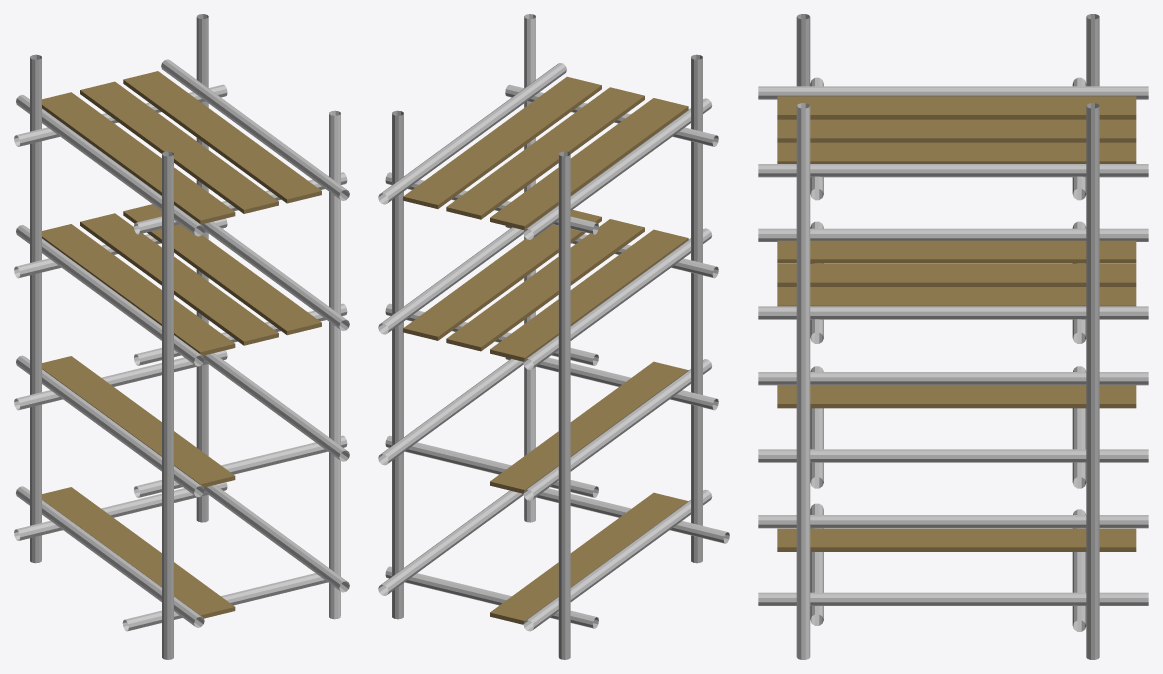
The model's file is scaffolding2.fbx.
3 views of the same model, side by side, from view 1: azimuth 30°, elevation 25°; view 2: azimuth 150°, elevation 25°; view 3: azimuth 270°, elevation 25° (orthographic). The views are drawn at different scales.
Parts seen in each view (by area): view 1: pCube54, pCube58, pCylinder48, pCube60, pCube31, pCube55, pCube59, pCylinder87, pCube61, pCube50, pCylinder36, pCylinder74 (+16 smaller); view 2: pCylinder87, pCube54, pCube58, pCube60, pCube31, pCube55, pCube59, pCube61, pCylinder48, pCube50, pCylinder47, pCylinder74 (+16 smaller); view 3: pCylinder36, pCube31, pCube58, pCube55, pCube61, pCube50, pCylinder47, pCube60, pCube54, pCube59, pCylinder52, pCylinder42 (+12 smaller).
Part boxes in pixels (x1=…): pCube54: x1=123, y1=71, x2=321, y2=203; pCube58: x1=80, y1=81, x2=278, y2=213; pCylinder48: x1=162, y1=151, x2=173, y2=659; pCube60: x1=80, y1=213, x2=278, y2=345; pCube31: x1=42, y1=92, x2=235, y2=224; pCube55: x1=42, y1=224, x2=235, y2=355; pCube59: x1=123, y1=204, x2=321, y2=335; pCylinder87: x1=30, y1=54, x2=41, y2=563; pCube61: x1=42, y1=356, x2=235, y2=487; pCube50: x1=42, y1=487, x2=235, y2=618; pCylinder36: x1=329, y1=110, x2=340, y2=619; pCylinder74: x1=161, y1=59, x2=349, y2=200; pCylinder87: x1=558, y1=151, x2=570, y2=659; pCube54: x1=403, y1=76, x2=601, y2=208; pCube58: x1=446, y1=87, x2=644, y2=219; pCube60: x1=446, y1=219, x2=644, y2=351; pCube31: x1=490, y1=98, x2=688, y2=229; pCube55: x1=490, y1=229, x2=688, y2=361; pCube59: x1=403, y1=209, x2=601, y2=340; pCube61: x1=490, y1=361, x2=688, y2=493; pCylinder48: x1=691, y1=54, x2=702, y2=563; pCube50: x1=490, y1=492, x2=688, y2=624; pCylinder47: x1=392, y1=110, x2=403, y2=619; pCylinder74: x1=378, y1=63, x2=566, y2=204; pCylinder36: x1=796, y1=103, x2=810, y2=659; pCube31: x1=777, y1=96, x2=1136, y2=119; pCube58: x1=777, y1=119, x2=1136, y2=142; pCube55: x1=777, y1=240, x2=1136, y2=263; pCube61: x1=777, y1=385, x2=1136, y2=408; pCube50: x1=777, y1=528, x2=1136, y2=551; pCylinder47: x1=1086, y1=103, x2=1099, y2=659; pCube60: x1=777, y1=264, x2=1136, y2=286; pCube54: x1=777, y1=142, x2=1136, y2=163; pCube59: x1=777, y1=287, x2=1136, y2=306; pCylinder52: x1=758, y1=306, x2=1148, y2=319; pCylinder42: x1=758, y1=449, x2=1148, y2=462.
Size of the model in its own units: 10.43 by 22.96 by 14.74.
